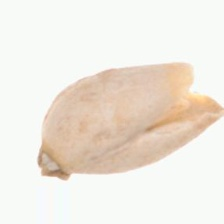L1: (175, 61, 221, 133), (36, 141, 72, 181)
L2: (36, 62, 221, 183)
